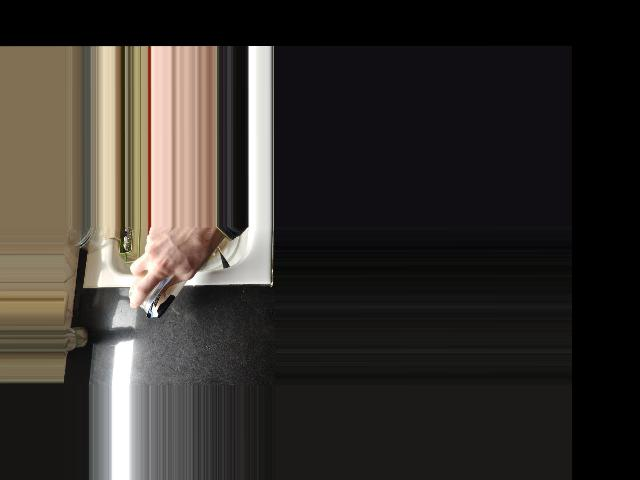cheese: (133, 231, 199, 321)
